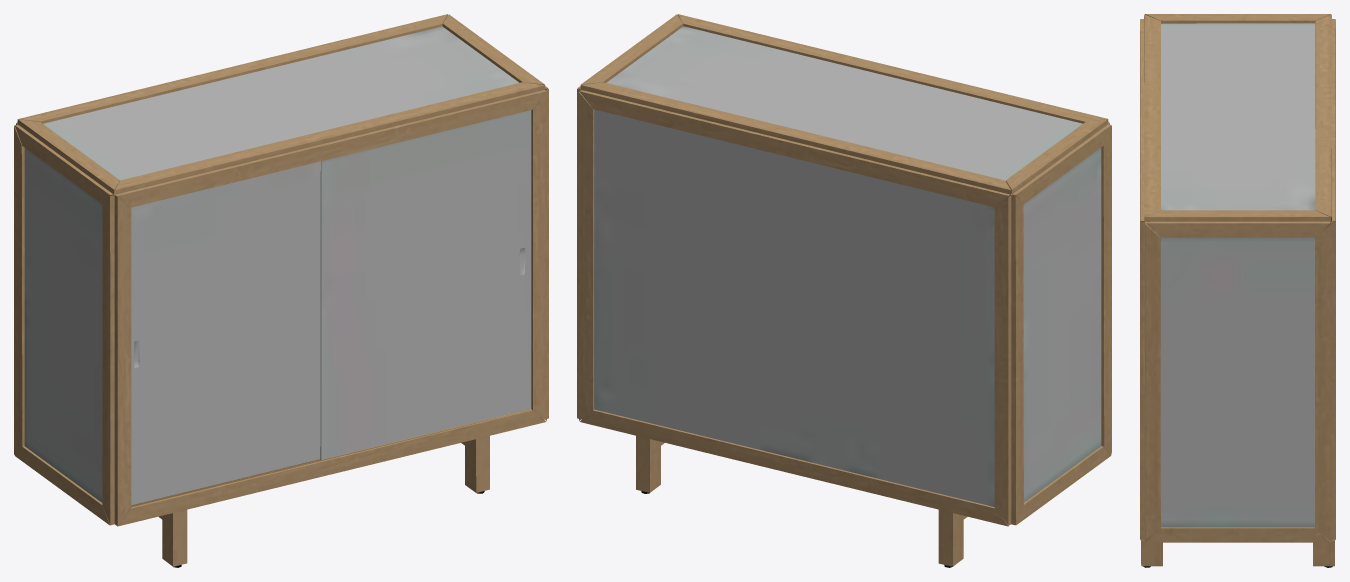
The model's file is 09 - STOCKHOLM 2025 - 玻璃門櫃, 實木貼皮, 橡木 IKEA 線上購物.glb.
3 views of the same model, side by side, from view 1: azimuth 30°, elevation 25°; view 2: azimuth 150°, elevation 25°; view 3: azimuth 270°, elevation 25° (orthographic). The views are drawn at different scales.
Visible parts, largest first — view 1: ASY_ART_60586692_S01_NV01; view 2: ASY_ART_60586692_S01_NV01; view 3: ASY_ART_60586692_S01_NV01.
Part boxes in pixels (<box>): ASY_ART_60586692_S01_NV01: <box>14,14,548,567</box>; ASY_ART_60586692_S01_NV01: <box>577,14,1111,567</box>; ASY_ART_60586692_S01_NV01: <box>1140,14,1335,567</box>.
Size of the model in its own units: 1 by 0.8552 by 0.4005.
2 materials, 2 textured.
